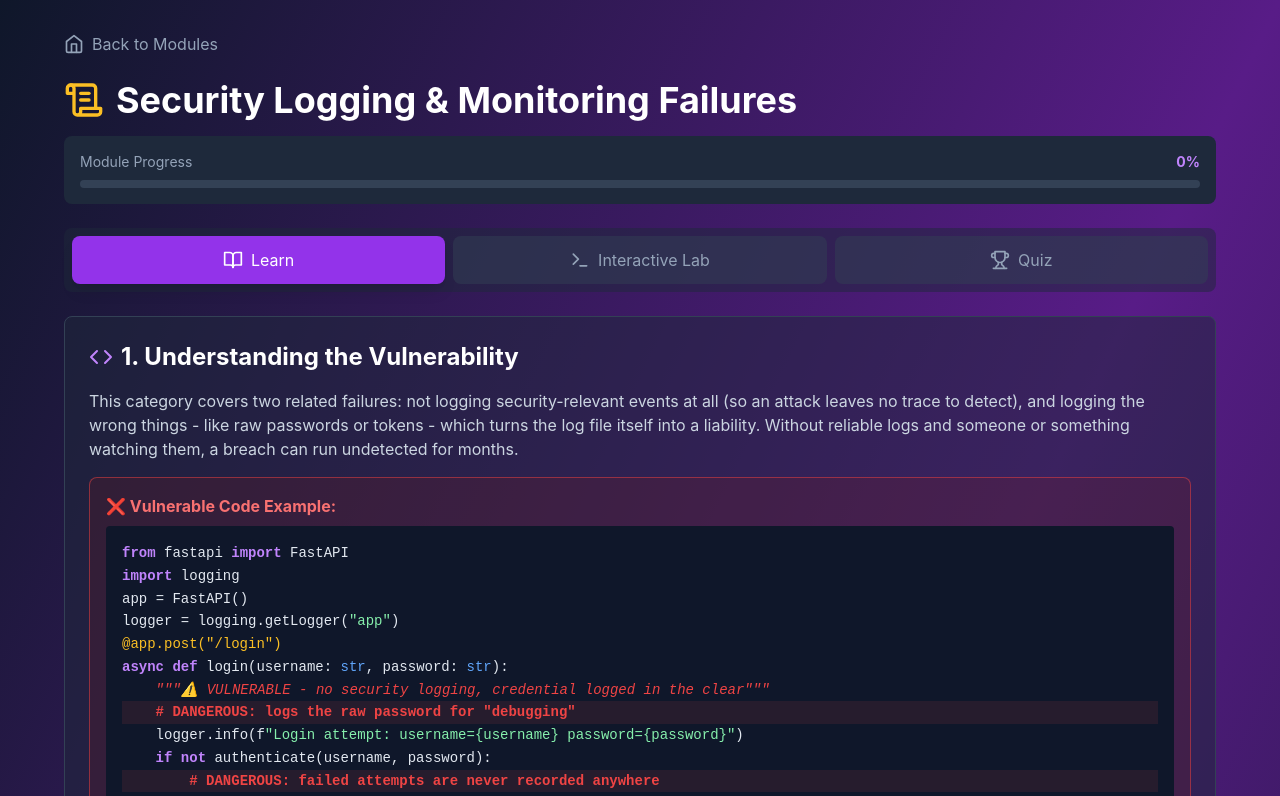
Test: LoggingFailuresModule log-review lab › flags a generic request log with no security signal
This screenshot has width=1280, height=796.
Click the button "Interactive Lab" at (640, 260), box [453,236,827,284]
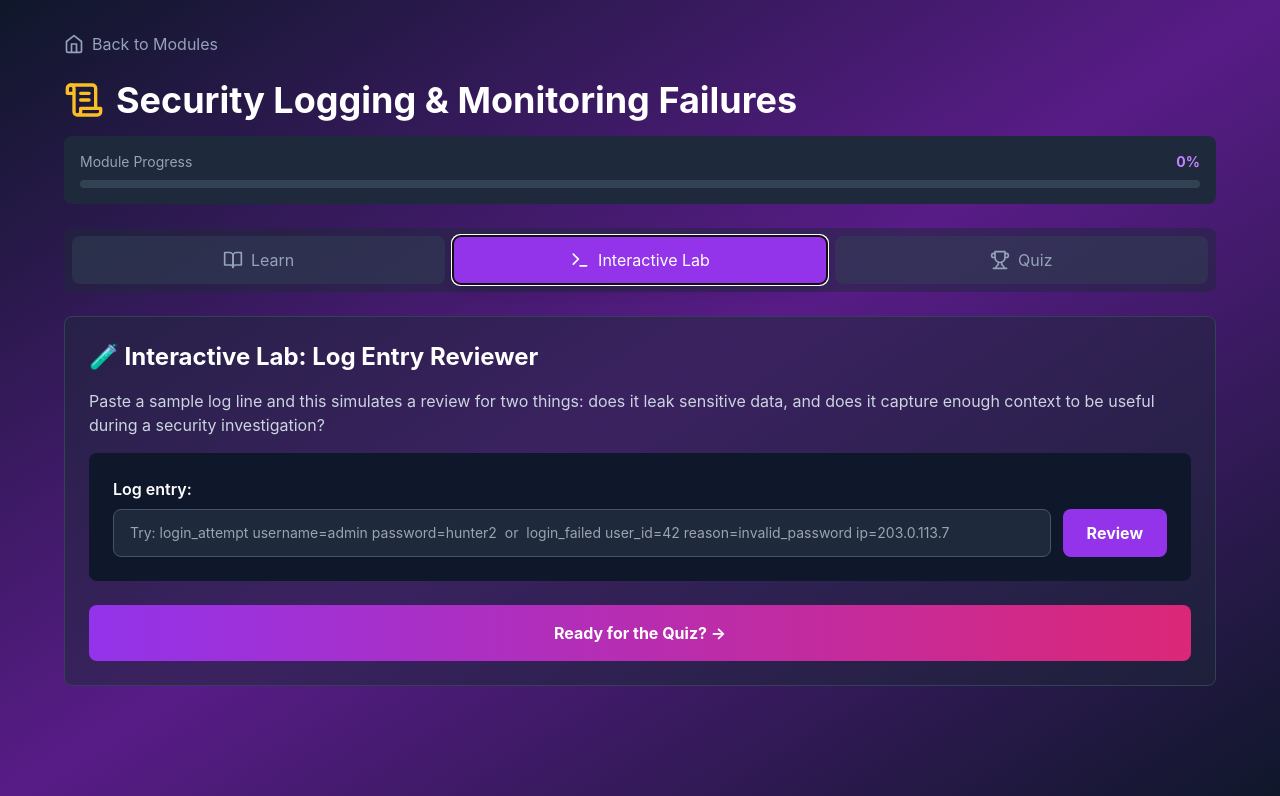
Type "GET /health 200 12ms" into the field with placeholder "login_attempt" at (582, 533), box [113,509,1051,557]
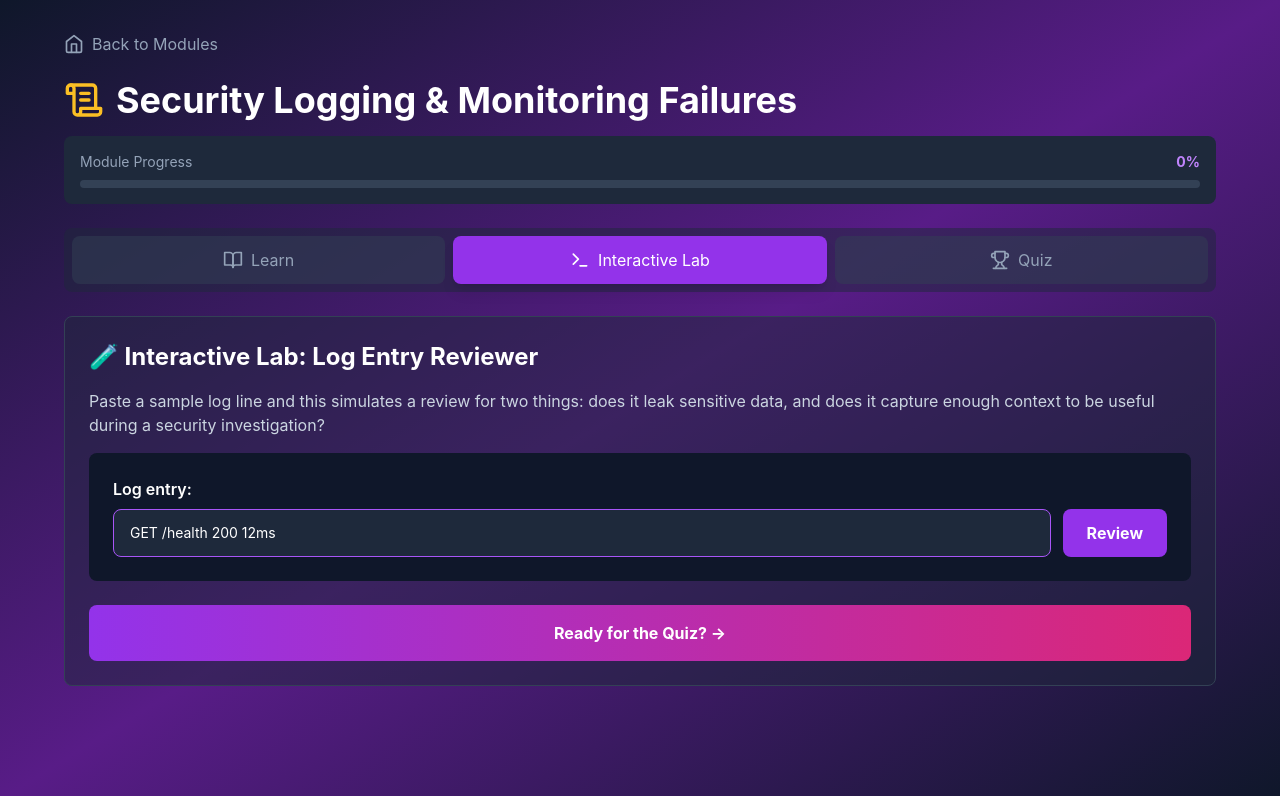
Click the button "Review" at (1115, 533), box [1063,509,1167,557]
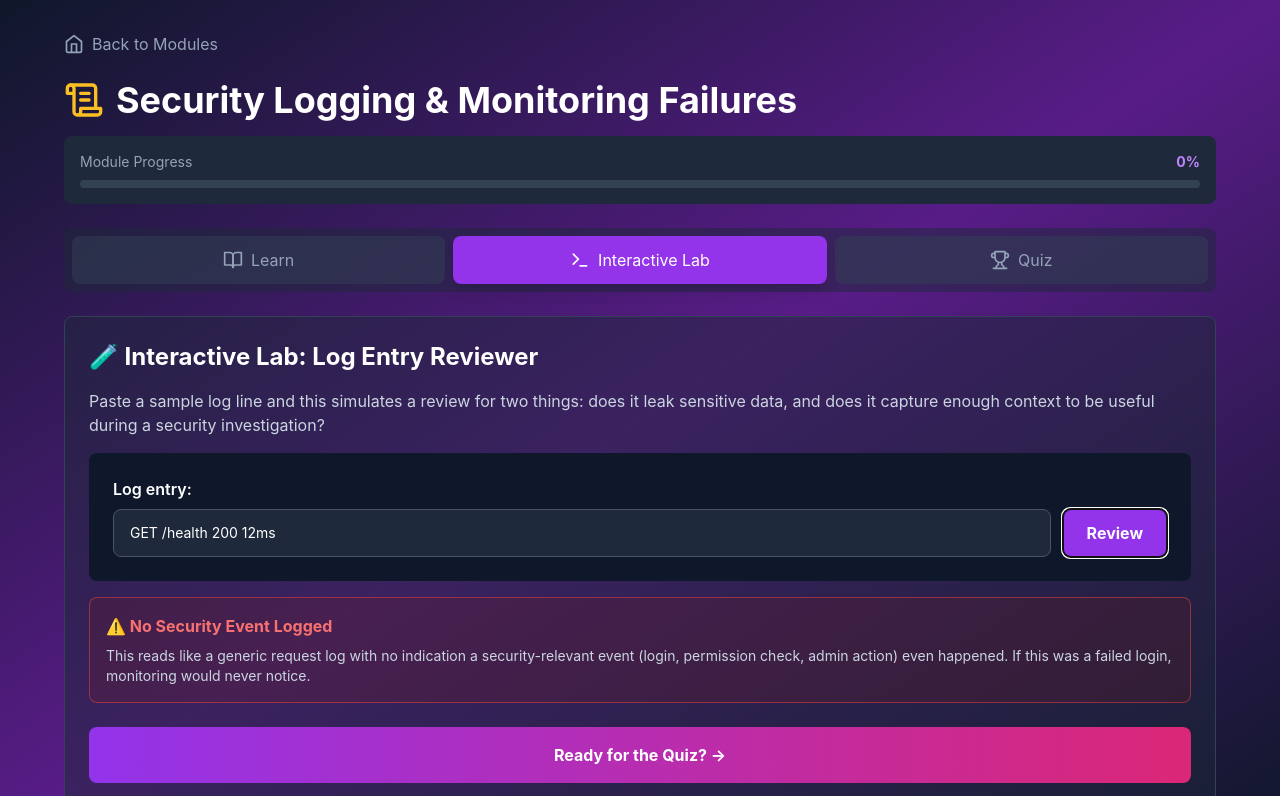
Expected: the text "⚠️ No Security Event Logged" is shown, [106,616,332,636]
